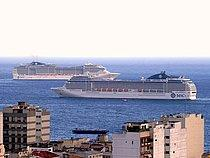Ship: (8, 57, 197, 103)
